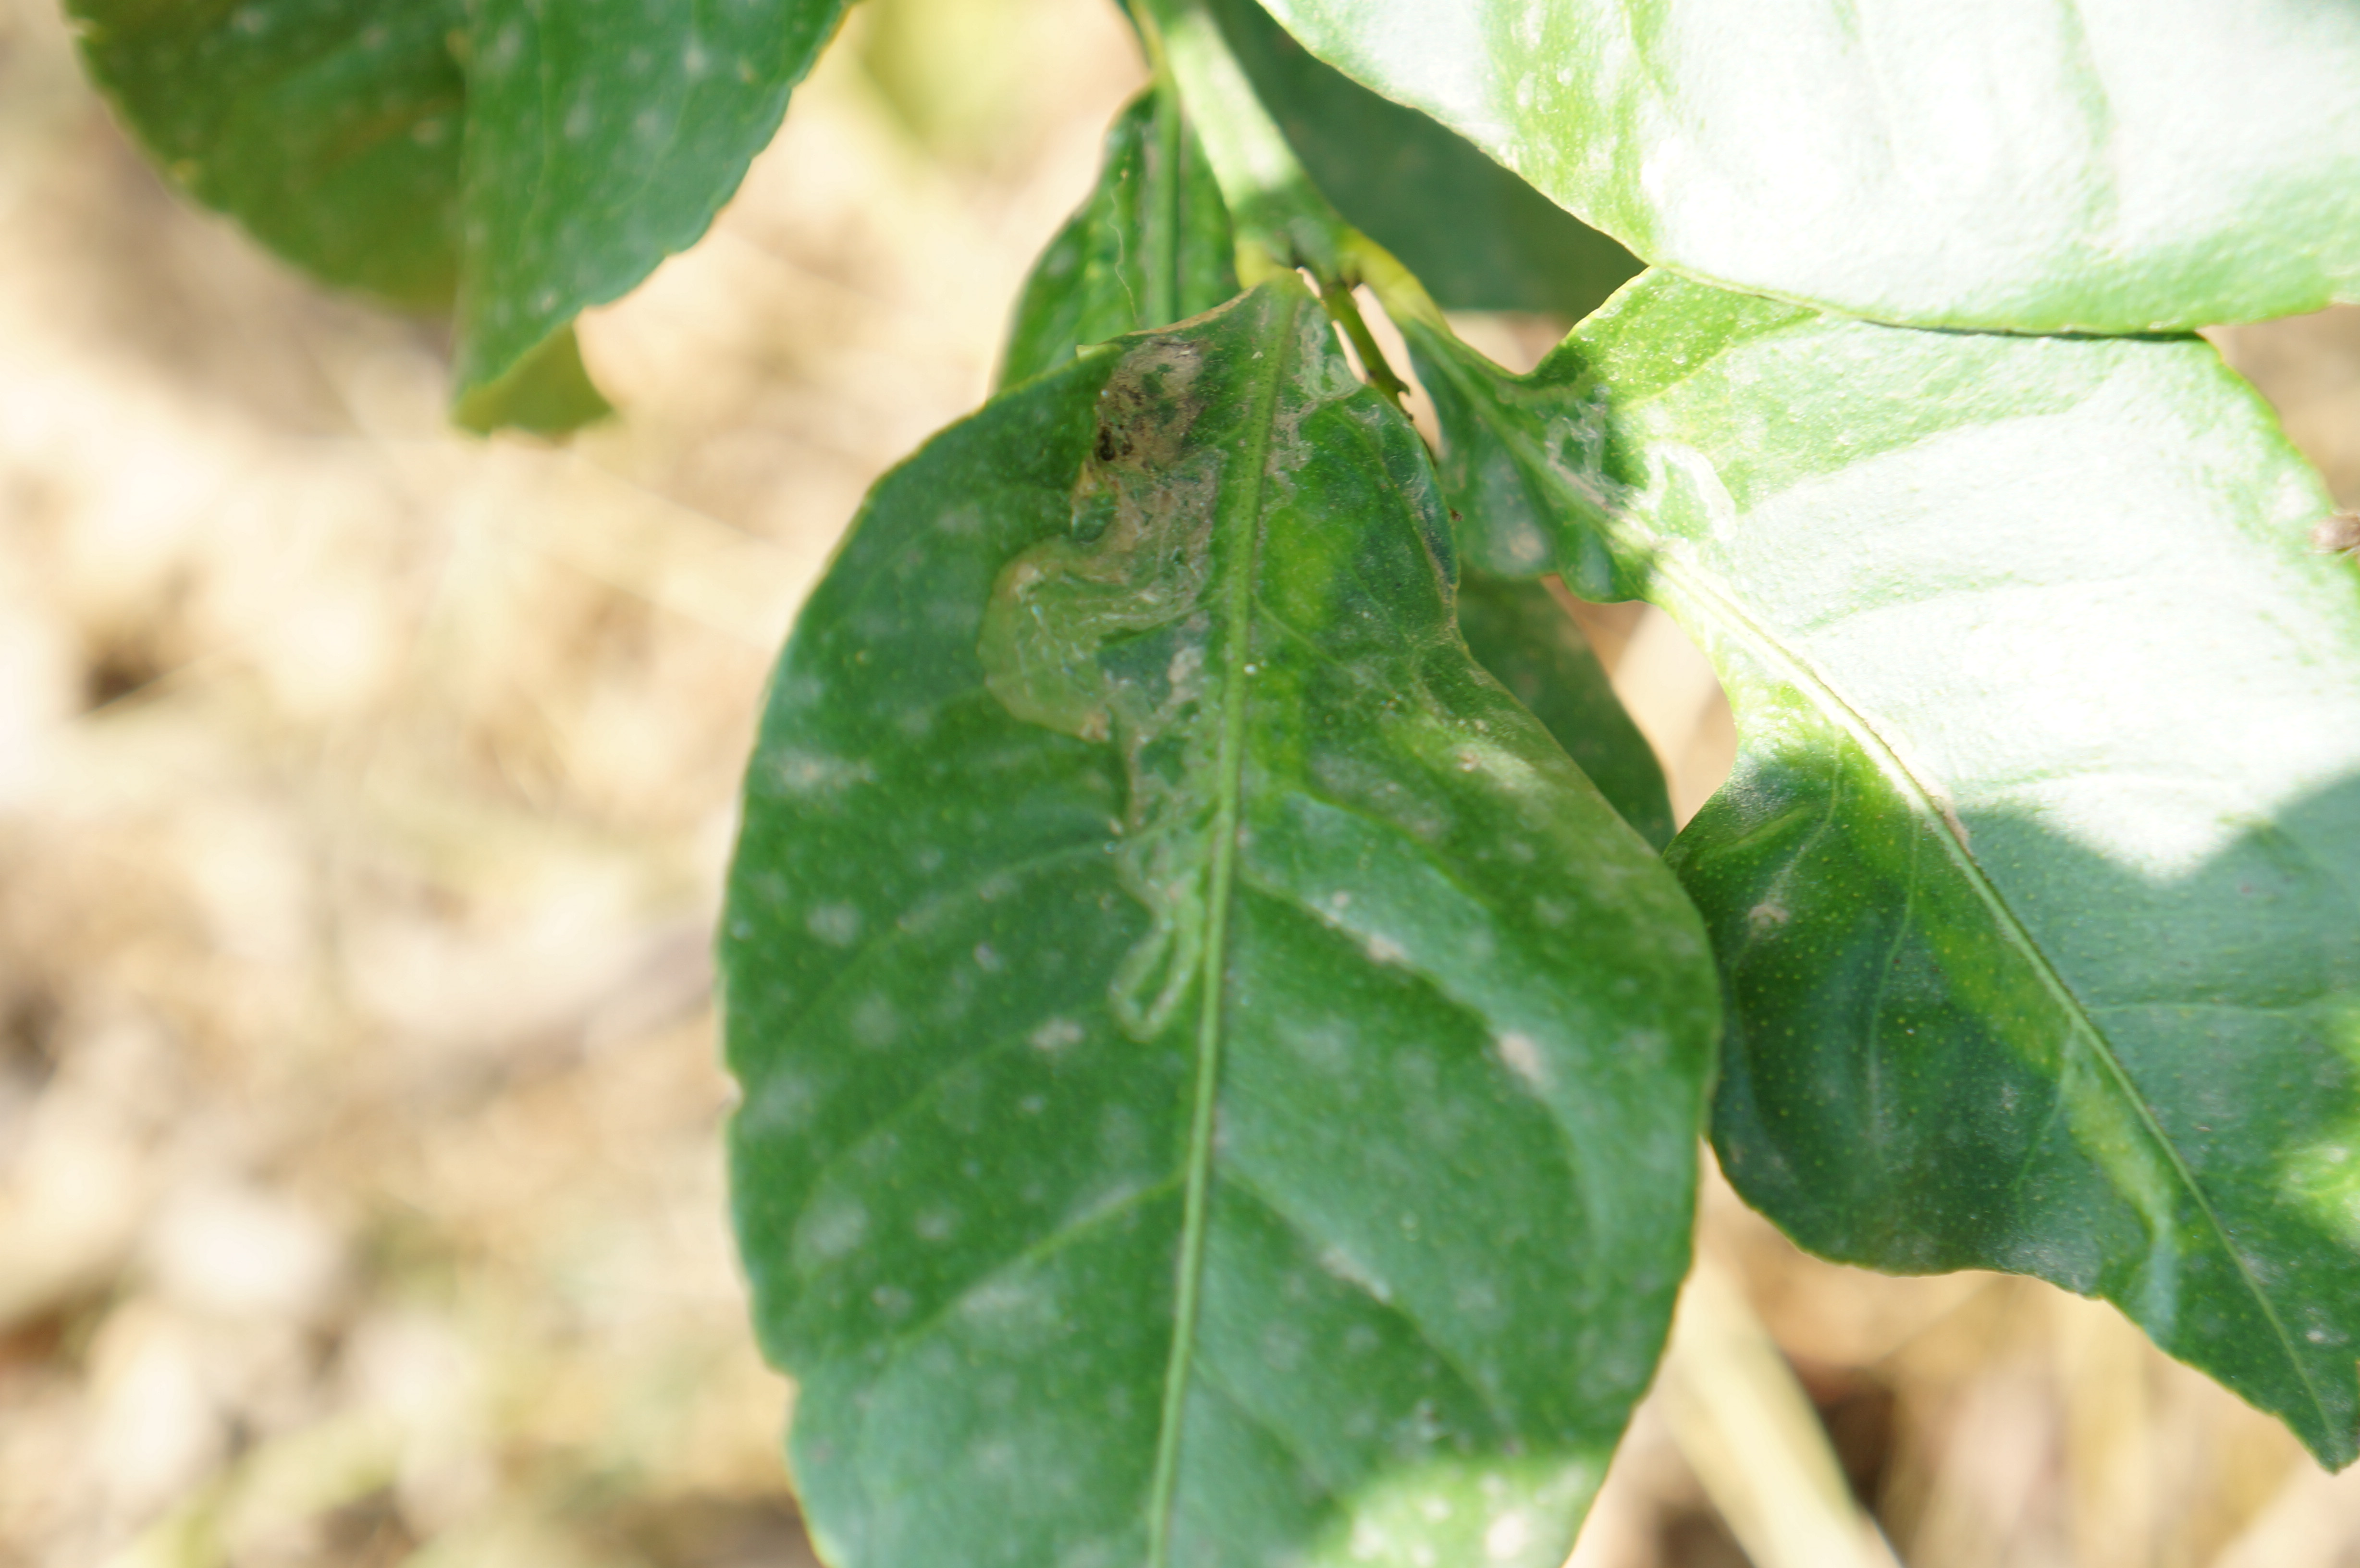damage: (1011, 304, 1324, 1127)
